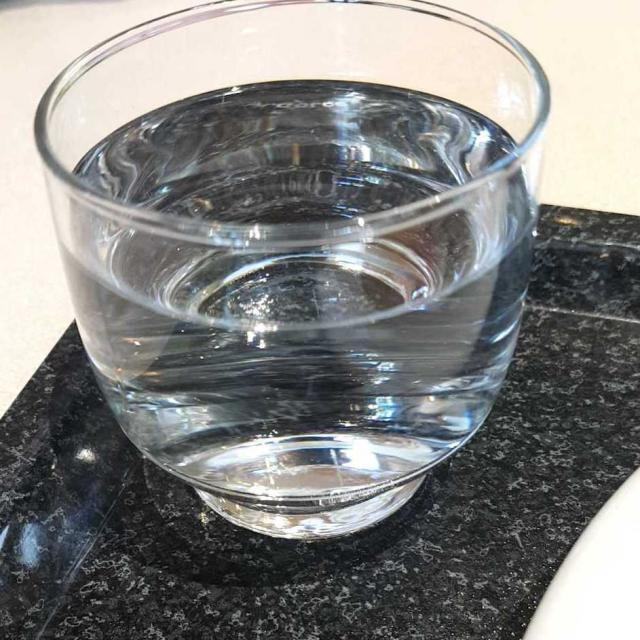water: (57, 83, 514, 520)
